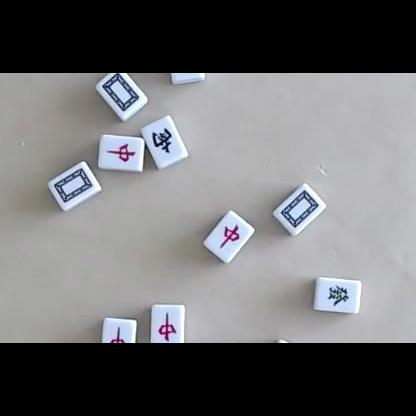2z: (151, 128, 174, 153)
5z: (280, 190, 319, 228), (101, 73, 139, 111), (54, 169, 93, 203)
6z: (328, 284, 349, 307)
7z: (106, 143, 136, 162), (158, 312, 177, 342), (219, 223, 240, 248), (107, 326, 127, 343)
